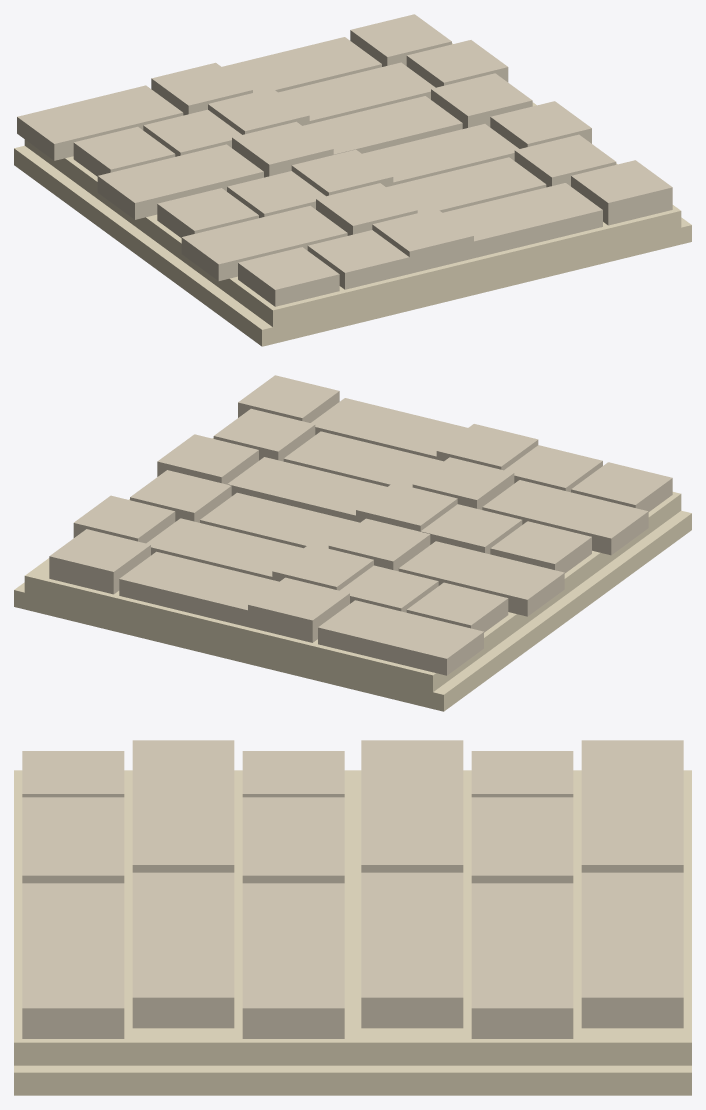
The model's file is sheet_faux_fur.glb.
3 views of the same model, one above another, from view 1: azimuth 30°, elevation 25°; view 2: azimuth 150°, elevation 25°; view 3: azimuth 270°, elevation 25° (orthographic). The views are drawn at different scales.
Parts seen in each view (by area): view 1: sheet_faux_fur:compound; view 2: sheet_faux_fur:compound; view 3: sheet_faux_fur:compound.
Part boxes in pixels (bbox=[...]): sheet_faux_fur:compound: bbox=[14, 14, 691, 346]; sheet_faux_fur:compound: bbox=[14, 375, 691, 711]; sheet_faux_fur:compound: bbox=[14, 740, 691, 1095].
Size of the model in its own units: 0.16 by 0.02 by 0.16.
